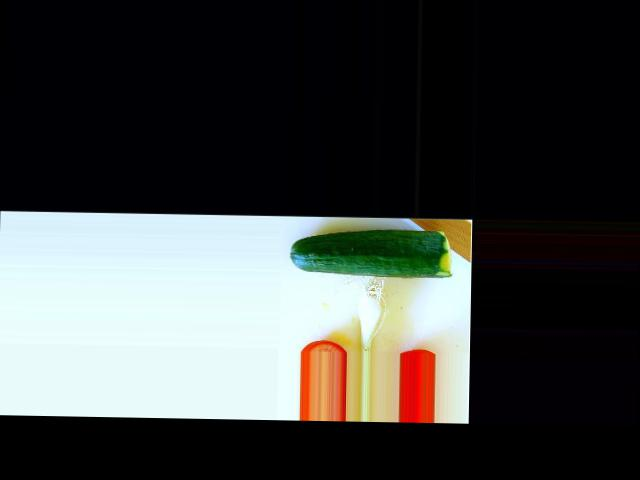cucumber: (288, 227, 452, 277)
